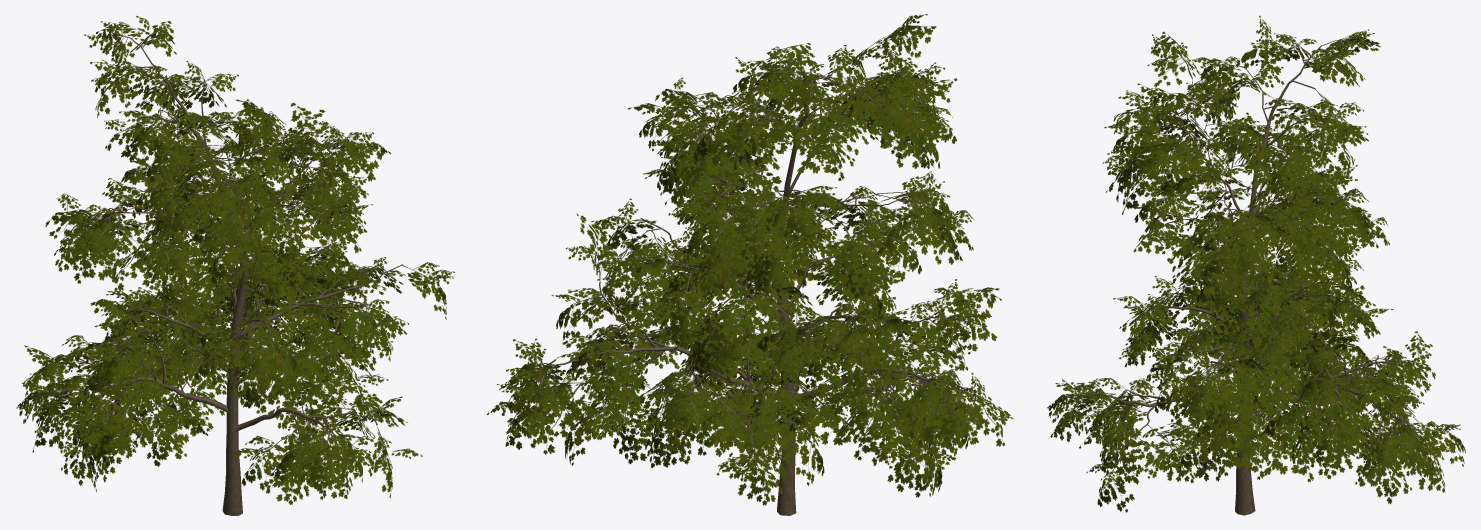
File: maple_acer_medium_1_lod0.gltf
The picture shows the model from 3 angles, left to right: view 1: azimuth 30°, elevation 25°; view 2: azimuth 150°, elevation 25°; view 3: azimuth 270°, elevation 25°; orthographic projection. The views are drawn at different scales.
Visible parts, largest first — view 1: Acer_medium_1_LOD0_Cluster_Mat_0, Acer_medium_1_LOD0_Bark_Mat_0; view 2: Acer_medium_1_LOD0_Cluster_Mat_0, Acer_medium_1_LOD0_Bark_Mat_0; view 3: Acer_medium_1_LOD0_Cluster_Mat_0, Acer_medium_1_LOD0_Bark_Mat_0.
Boxes of the visible parts, x1,y1,x2,y2 form: Acer_medium_1_LOD0_Cluster_Mat_0: [16, 15, 454, 504]; Acer_medium_1_LOD0_Bark_Mat_0: [58, 44, 402, 515]; Acer_medium_1_LOD0_Cluster_Mat_0: [487, 14, 1013, 505]; Acer_medium_1_LOD0_Bark_Mat_0: [538, 49, 965, 515]; Acer_medium_1_LOD0_Cluster_Mat_0: [1047, 15, 1465, 512]; Acer_medium_1_LOD0_Bark_Mat_0: [1089, 45, 1414, 515].
Bounding box in the file's own units: 11.65 × 12.62 × 10.62.
2 materials, 2 textured.
